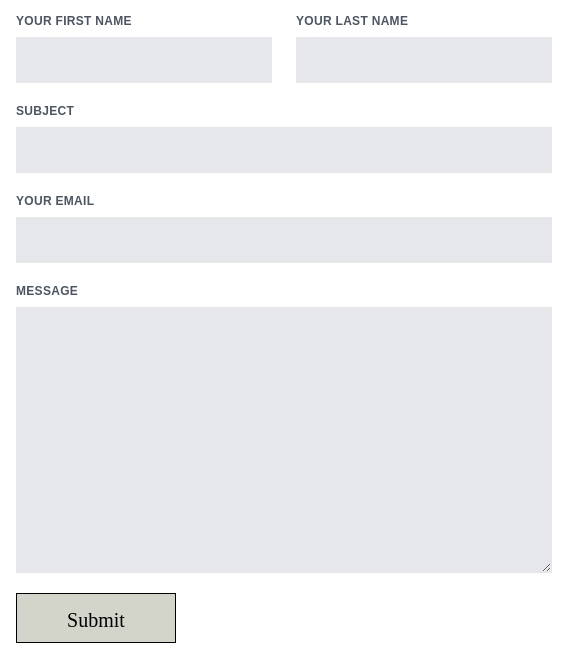
Scenario: MessageForm › success: shows the success alert and clears every field
Type "Ada" into the field labelled "Your First Name". click: [144, 60]
box: [16, 37, 272, 83]
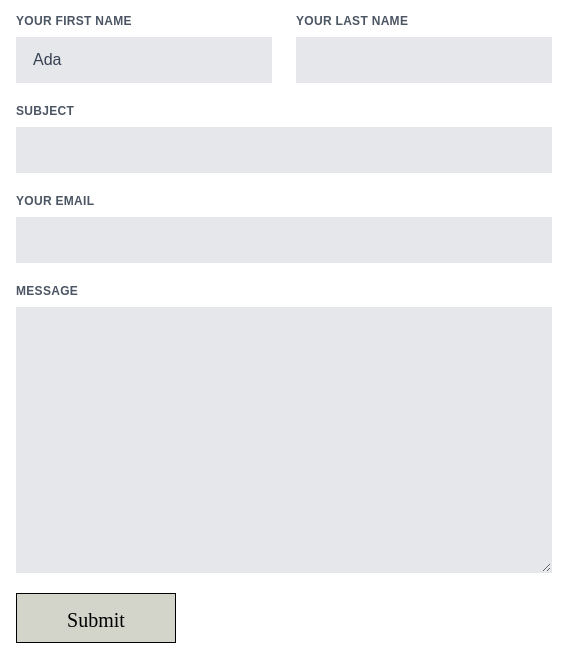
Type "Lovelace" into the field labelled "Your Last Name". click: [424, 60]
box: [296, 37, 552, 83]
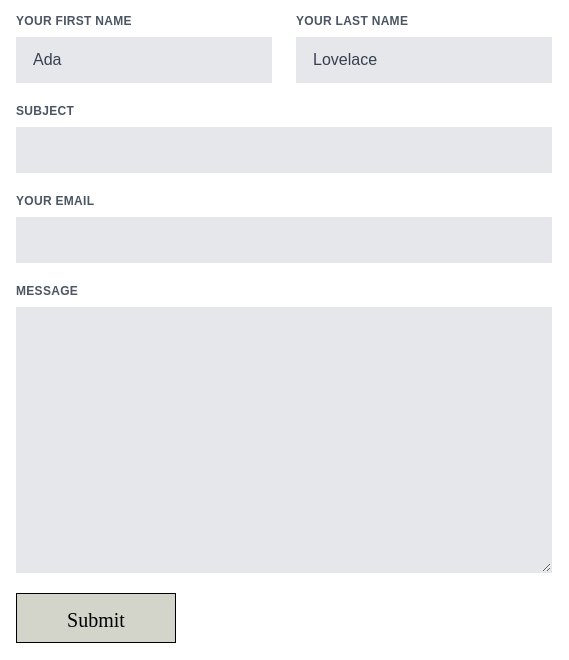
Type "Hello" into the field labelled "Subject". click: [284, 150]
box: [16, 127, 552, 173]
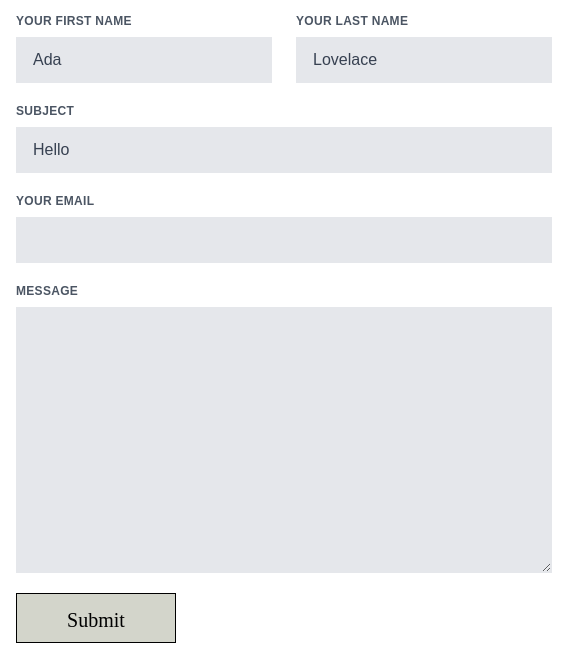
Type "ada@example.com" into the field labelled "Your Email". click: [284, 240]
box: [16, 217, 552, 263]
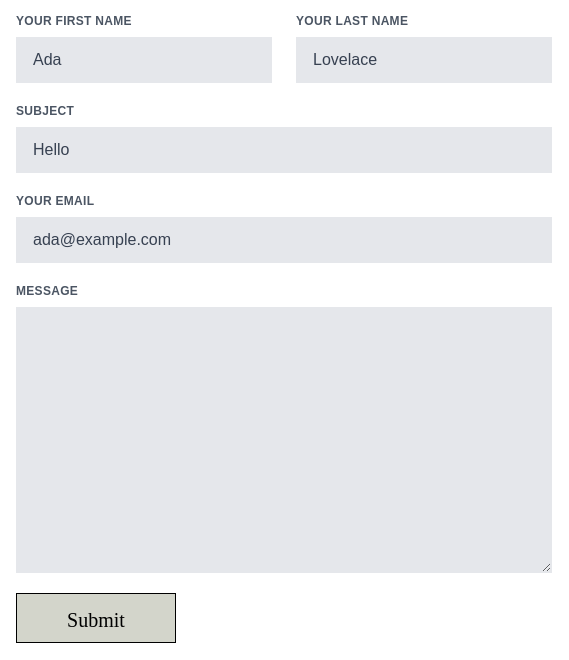
Type "This message is long enough." into the text box labelled "Message". click: [284, 440]
box: [16, 307, 552, 573]
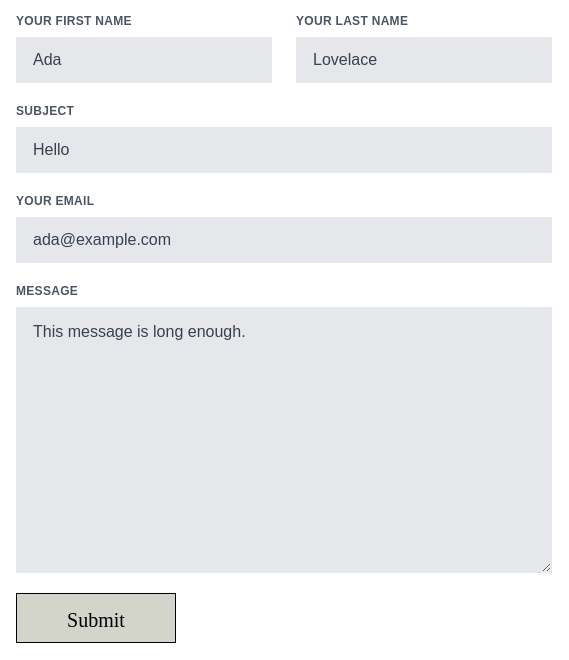
Click the button "Submit". click: [96, 618]
box: [16, 593, 176, 643]
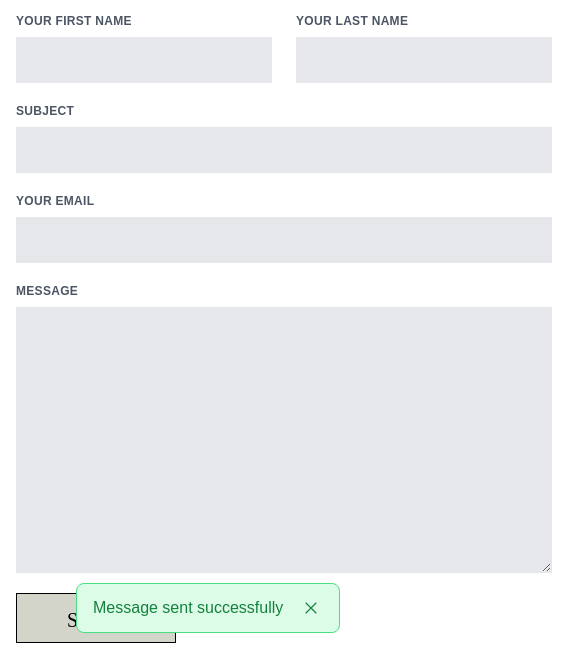
Expected: the text "Message sent successfully" is shown, [93, 596, 283, 620]
Expected: the field labelled "Your First Name" is empty, [16, 37, 272, 83]
Expected: the field labelled "Your Last Name" is empty, [296, 37, 552, 83]
